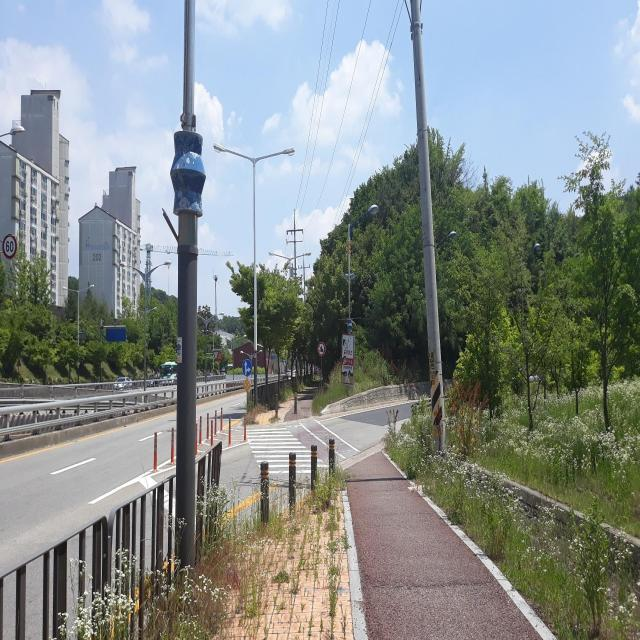횡단보도: (244, 426, 329, 474)
